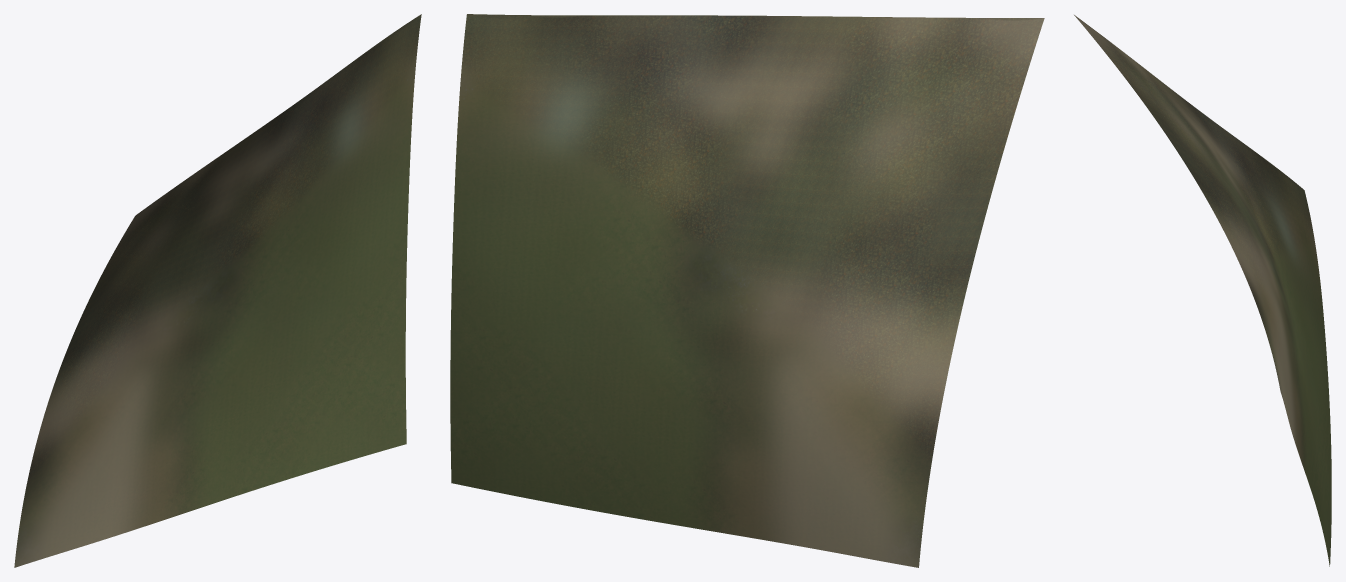
File: ground_core_04_07.obj
3 renders of one model, left to right at view 1: azimuth 30°, elevation 25°; view 2: azimuth 150°, elevation 25°; view 3: azimuth 270°, elevation 25°, orthographic. The views are drawn at different scales.
Visible parts, largest first — view 1: ground_core_04_07; view 2: ground_core_04_07; view 3: ground_core_04_07.
Boxes of the visible parts, x1,y1,x2,y2 form: ground_core_04_07: (14,14,421,567); ground_core_04_07: (450,14,1044,567); ground_core_04_07: (1074,15,1331,566).
Bounding box in the file's own units: 50 × 50 × 31.02.
Materials: 1 (1 with a texture image).
